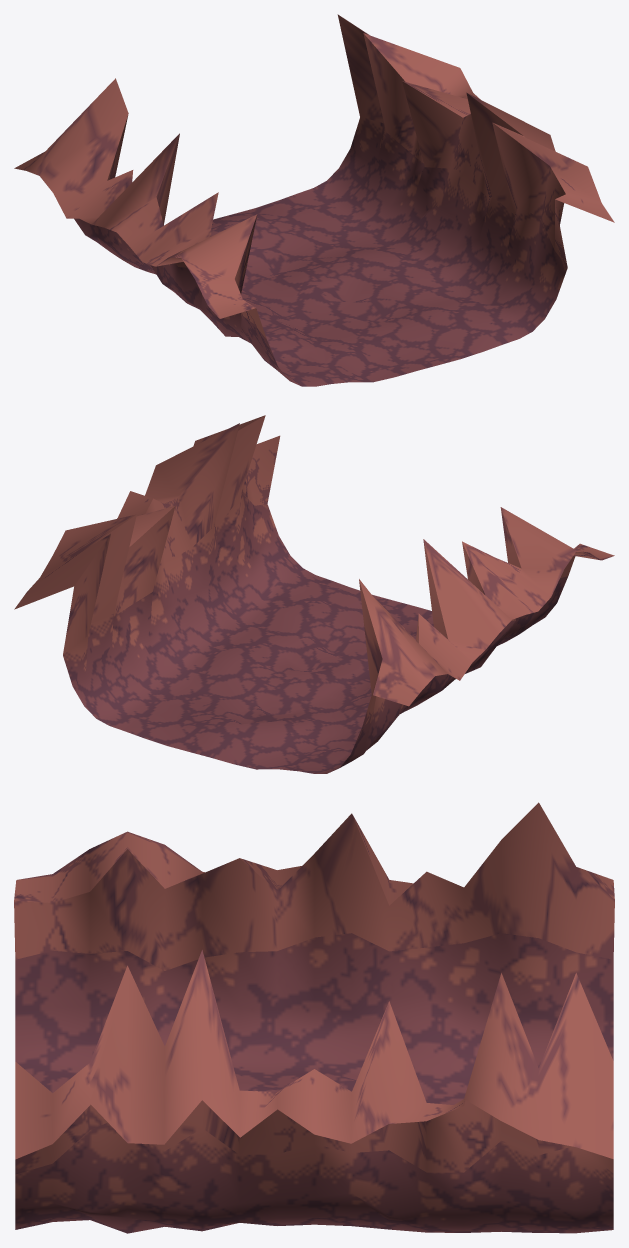
File: model_ground.obj
3 views of the same model, one above another, from view 1: azimuth 30°, elevation 25°; view 2: azimuth 150°, elevation 25°; view 3: azimuth 270°, elevation 25° (orthographic). The views are drawn at different scales.
Visible parts, largest first — view 1: pPlane3; view 2: pPlane3; view 3: pPlane3.
Part boxes in pixels (left/top/right/bottom): pPlane3: left=14, top=14, right=614, bottom=386; pPlane3: left=14, top=415, right=614, bottom=773; pPlane3: left=14, top=802, right=614, bottom=1233.
Size of the model in its own units: 171 by 86.6 by 155.
Materials: 1 (1 with a texture image).
